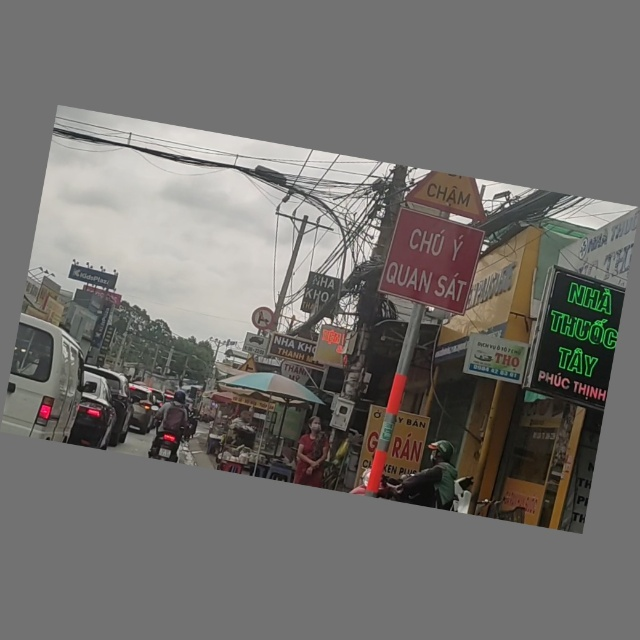P.139: (248, 304, 278, 334)
S.505a*Xe tai: (242, 334, 270, 357)
W.205b: (237, 355, 264, 378)
W.245a: (402, 168, 498, 221)
